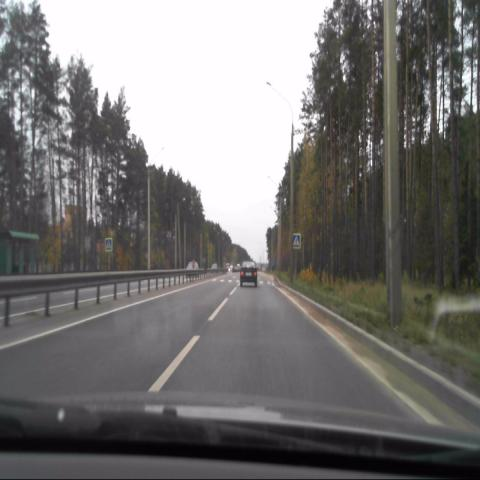5_19_1: (292, 232, 300, 246), (104, 236, 112, 250)
